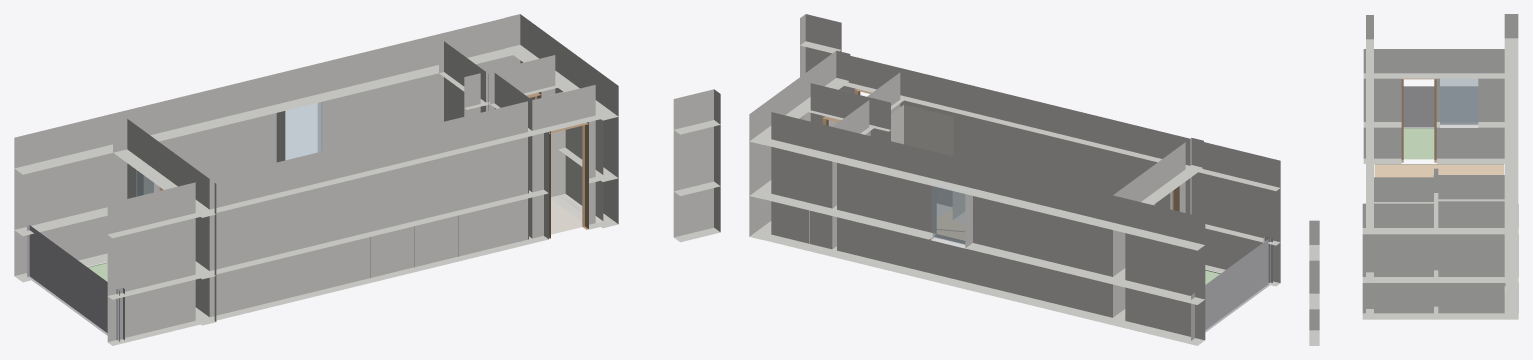
3 views of the same model, side by side, from view 1: azimuth 30°, elevation 25°; view 2: azimuth 150°, elevation 25°; view 3: azimuth 270°, elevation 25° (orthographic). The views are drawn at different scales.
Visible parts, largest first — view 1: walls, railings, furniture_1_closet, window_0, door_3, floor_4_Entry; view 2: walls, railings, furniture_2_closet, window_0; view 3: walls, railings, window_1, floor_1_Living_Room, floor_0_Outdoor, door_2, sill_1.
Part boxes in pixels (x1,y1,x2,y2): walls: [14, 14, 720, 345]; railings: [27, 225, 124, 341]; furniture_1_closet: [549, 91, 603, 222]; window_0: [285, 98, 322, 159]; door_3: [549, 122, 588, 238]; floor_4_Entry: [551, 199, 582, 234]; walls: [749, 14, 1280, 345]; railings: [1191, 236, 1272, 340]; furniture_2_closet: [891, 104, 953, 217]; window_0: [932, 182, 967, 244]; walls: [1309, 14, 1518, 345]; railings: [1403, 86, 1477, 127]; window_1: [1440, 78, 1478, 124]; floor_1_Living_Room: [1374, 164, 1503, 177]; floor_0_Outdoor: [1403, 128, 1434, 159]; door_2: [1401, 78, 1436, 162]; sill_1: [1440, 123, 1478, 127].
Bounding box in the file's own units: 11.73 × 2.72 × 4.67.
